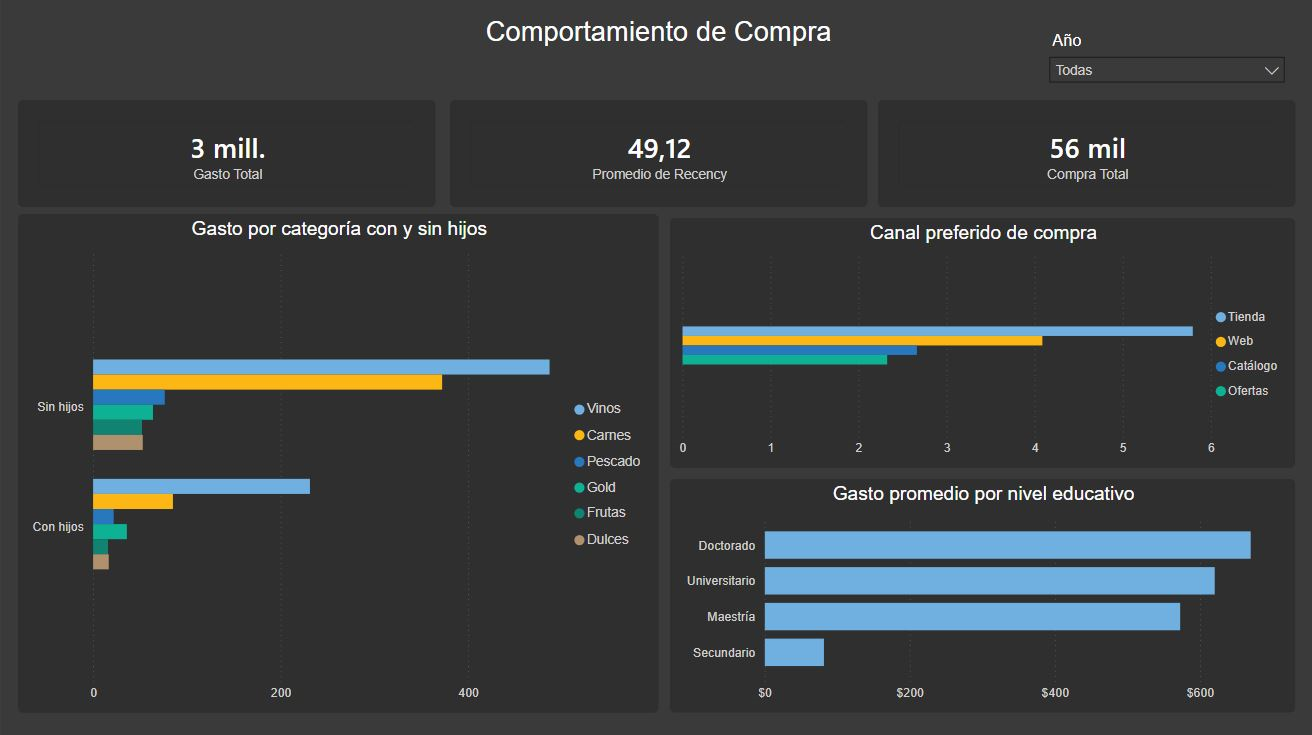

The dashboard page shown, as its layout file describes it:
{"tool":"powerbi","page":{"name":"Comportamiento de Compra","canvas":[1280,720],"ordinal":3},"visuals":[{"type":"clusteredBarChart","title":"Canal preferido de compra","fields":{"Y":["Avg(fact_purchases.NumStorePurchases)","Avg(fact_purchases.NumWebPurchases)","Avg(fact_purchases.NumCatalogPurchases)","Avg(fact_purchases.NumDealsPurchases)"]},"box":[651,215,608,243],"z":0},{"type":"textbox","box":[369,14,542,46],"z":1000},{"type":"clusteredBarChart","title":"Gasto por categoría con y sin hijos","fields":{"Category":["dim_customer.Has_Children"],"Y":["Avg(fact_purchases.MntWines)","Avg(fact_purchases.MntMeatProducts)","Avg(fact_purchases.MntFishProducts)","Avg(fact_purchases.MntGoldProds)","Avg(fact_purchases.MntFruits)","Avg(fact_purchases.MntSweetProducts)"]},"box":[17,211,623,485],"z":2000},{"type":"clusteredBarChart","title":"Gasto promedio por nivel educativo ","fields":{"Category":["dim_customer.Education"],"Y":["Avg(fact_purchases.Total_Spending)"]},"box":[651,469,608,227],"z":3000},{"type":"cardVisual","fields":{"Data":["Sum(fact_purchases.Total_Spending)"]},"box":[17,100,406,104],"z":4000},{"type":"cardVisual","fields":{"Data":["Avg(fact_purchases.Recency)"]},"box":[437,100,406,104],"z":5000},{"type":"cardVisual","fields":{"Data":["_Medidas.Total Purchases"]},"box":[853,100,406,104],"z":6000},{"type":"slicer","fields":{"Values":["dim_fecha.year"]},"box":[1010,28,249,64],"z":7000}]}

Visuals, with their boxes in screenshot pixels (x1, y1, x2, y2), scaled from the page's 1280x720 canvas onto the 1312x735 screenshot:
"Canal preferido de compra" clusteredBarChart: bbox(667, 219, 1290, 468)
textbox: bbox(378, 14, 934, 61)
"Gasto por categoría con y sin hijos" clusteredBarChart: bbox(17, 215, 656, 710)
"Gasto promedio por nivel educativo " clusteredBarChart: bbox(667, 479, 1290, 710)
cardVisual - Sum(fact_purchases.Total_Spending): bbox(17, 102, 434, 208)
cardVisual - Avg(fact_purchases.Recency): bbox(448, 102, 864, 208)
cardVisual - _Medidas.Total Purchases: bbox(874, 102, 1290, 208)
slicer - dim_fecha.year: bbox(1035, 29, 1290, 94)
